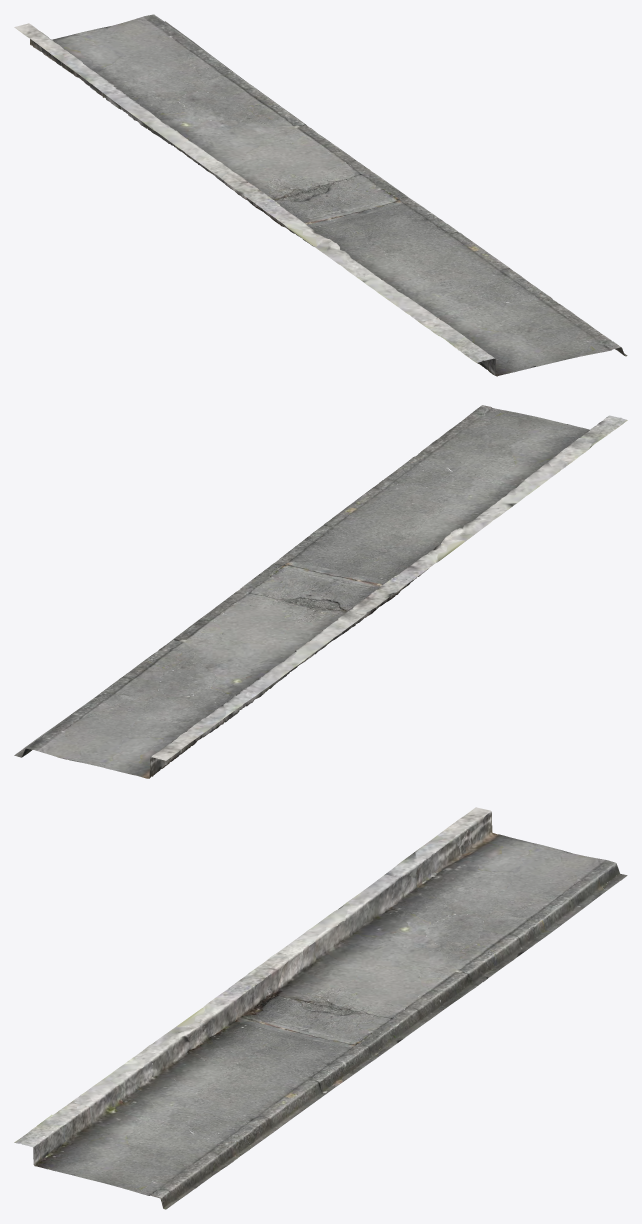
File: marciapiede-8-m.glb
3 renders of one model, top to bottom at view 1: azimuth 30°, elevation 25°; view 2: azimuth 150°, elevation 25°; view 3: azimuth 330°, elevation 25°, orthographic.
Visible parts, largest first — view 1: Object_2, Object_3; view 2: Object_2, Object_3; view 3: Object_2, Object_3.
Boxes of the visible parts, box(x1,y1,x2,y2) form: Object_2: box(14, 14, 627, 376); Object_3: box(164, 21, 542, 303); Object_2: box(22, 405, 627, 778); Object_3: box(14, 460, 507, 757); Object_2: box(14, 807, 620, 1209); Object_3: box(134, 874, 627, 1145).
Size of the model in its own units: 1.54 by 0.3558 by 8.12.
Materials: 1 (1 with a texture image).
